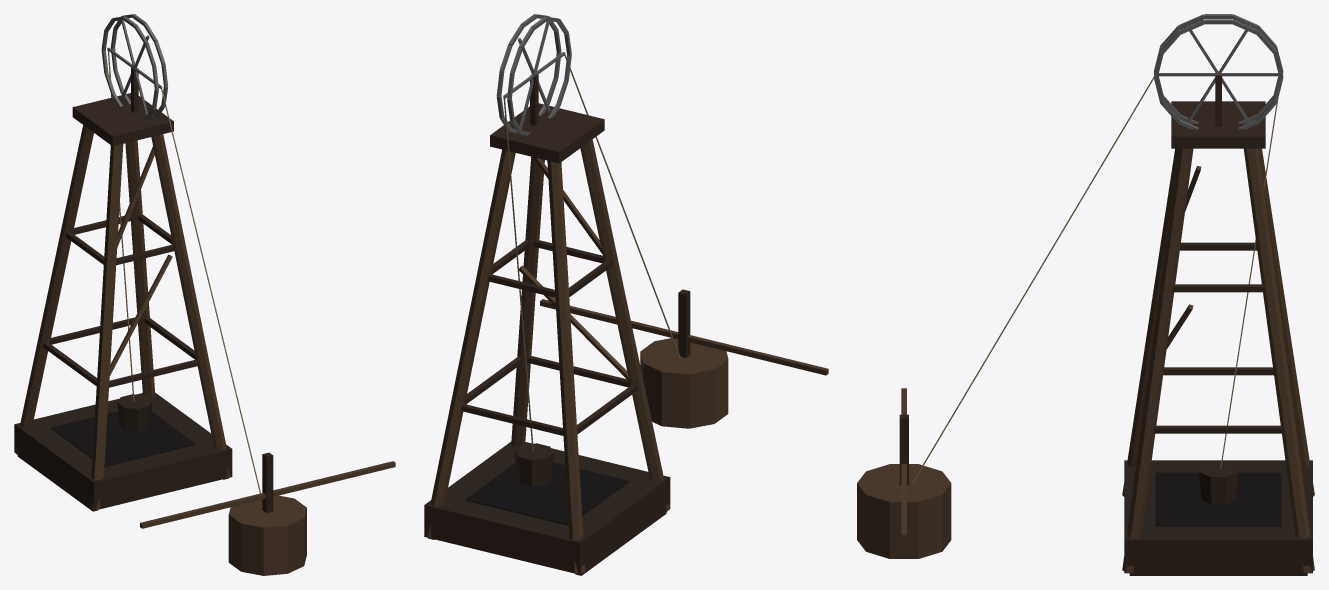
The model's file is walk_prop_headframe.glb.
3 views of the same model, side by side, from view 1: azimuth 30°, elevation 25°; view 2: azimuth 150°, elevation 25°; view 3: azimuth 270°, elevation 25° (orthographic). The views are drawn at different scales.
Visible parts, largest first — view 1: walk_prop_headframe; view 2: walk_prop_headframe; view 3: walk_prop_headframe.
Part boxes in pixels (x1,y1,x2,y2): walk_prop_headframe: (14,14,395,575); walk_prop_headframe: (424,14,828,575); walk_prop_headframe: (857,14,1314,575).
Size of what is drawn, in the model's own units: 6.6 by 11.08 by 8.74.
Materials: 2 (2 with a texture image).
